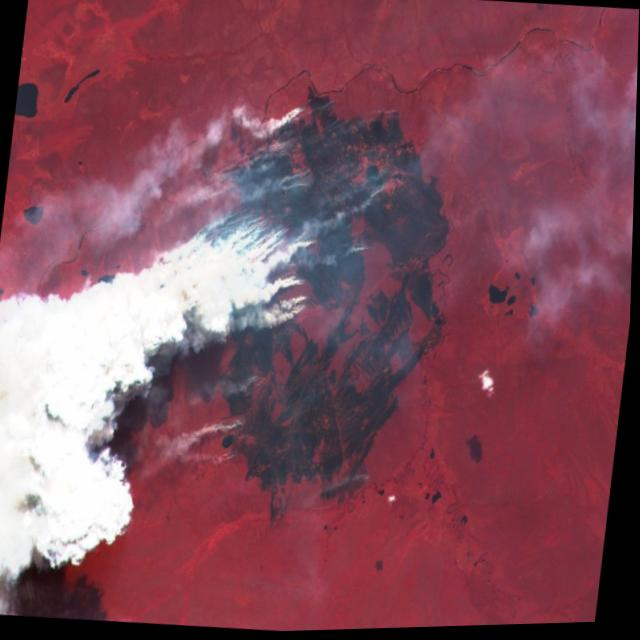fire: (132, 78, 424, 495)
